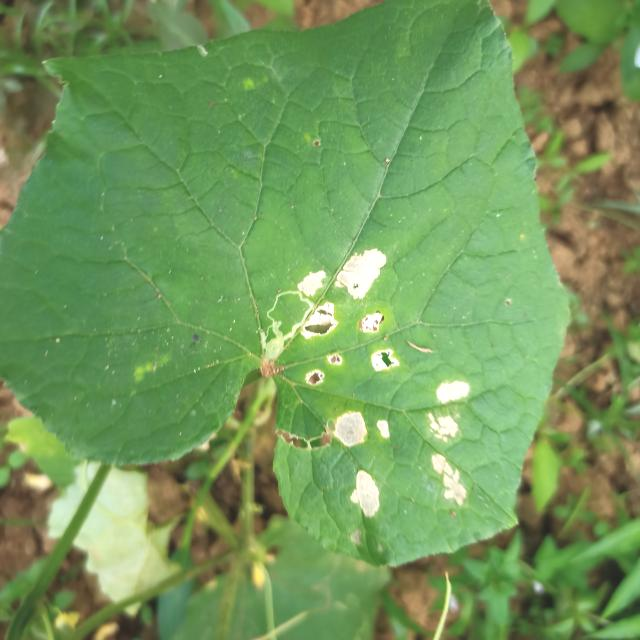disease_cucumber: (298, 249, 396, 516), (432, 377, 467, 507)
